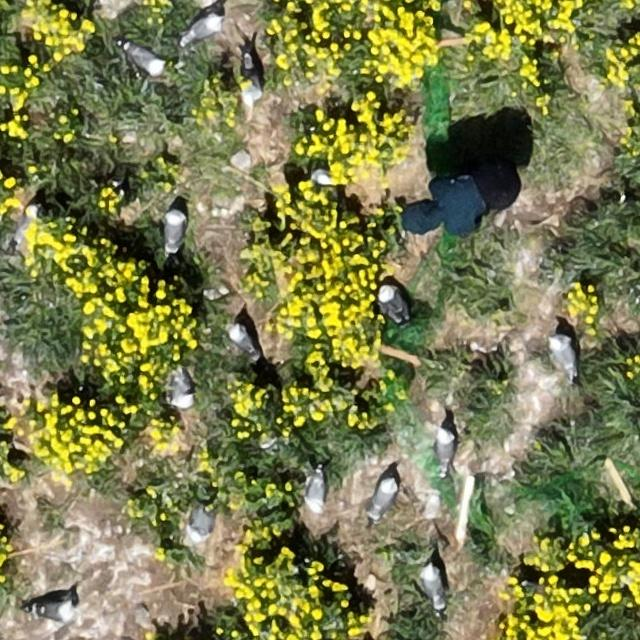umineko: (188, 501, 215, 546), (125, 47, 164, 74), (553, 340, 578, 379), (228, 324, 256, 358), (371, 480, 396, 518), (420, 564, 442, 606), (378, 287, 403, 321), (11, 212, 36, 246), (164, 208, 184, 250), (170, 372, 193, 408), (187, 16, 221, 40), (436, 428, 454, 468), (306, 473, 326, 508), (36, 603, 72, 622)
